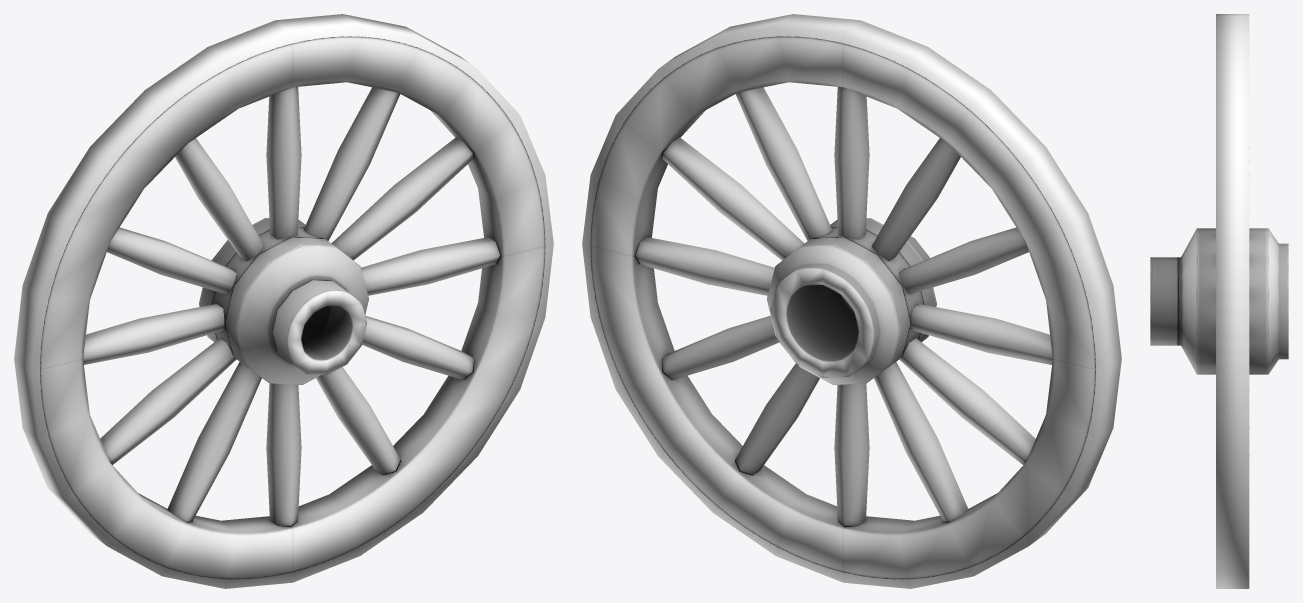
The model's file is wooden_wheel.fbx.
3 renders of one model, left to right at view 1: azimuth 30°, elevation 25°; view 2: azimuth 150°, elevation 25°; view 3: azimuth 270°, elevation 25°, orthographic. The views are drawn at different scales.
Visible parts, largest first — view 1: wooden_wheel; view 2: wooden_wheel; view 3: wooden_wheel.
Boxes of the visible parts, <box> form: wooden_wheel: <box>14,14,553,588</box>; wooden_wheel: <box>582,14,1121,588</box>; wooden_wheel: <box>1150,14,1288,588</box>.
Bounding box in the file's own units: 69.86 × 70.26 × 16.72.
